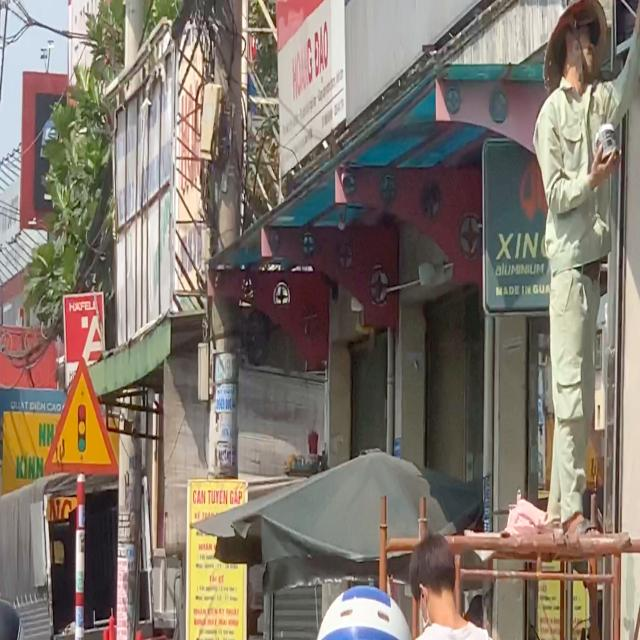Nguy hiem: (37, 345, 125, 484)
